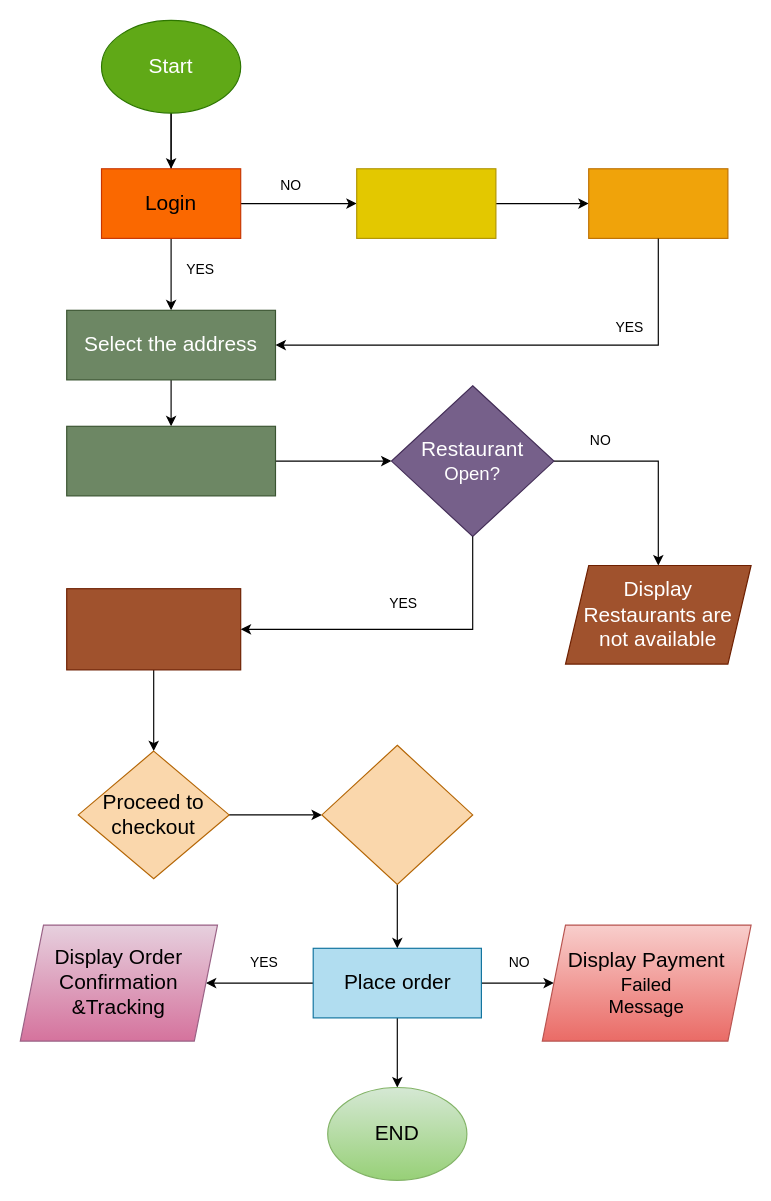
This 771x1201 diagram has some shape labels left out. Here are the shapes that lost their labels. From the top down, the centre of each, then its label:
At [426,203]: "Sign Up".
At [658,203]: "Register & Save Details".
At [171,460]: "Browse Restaurants".
At [153,629]: "View menu & Add items".
At [397,814]: "Select payment method".
